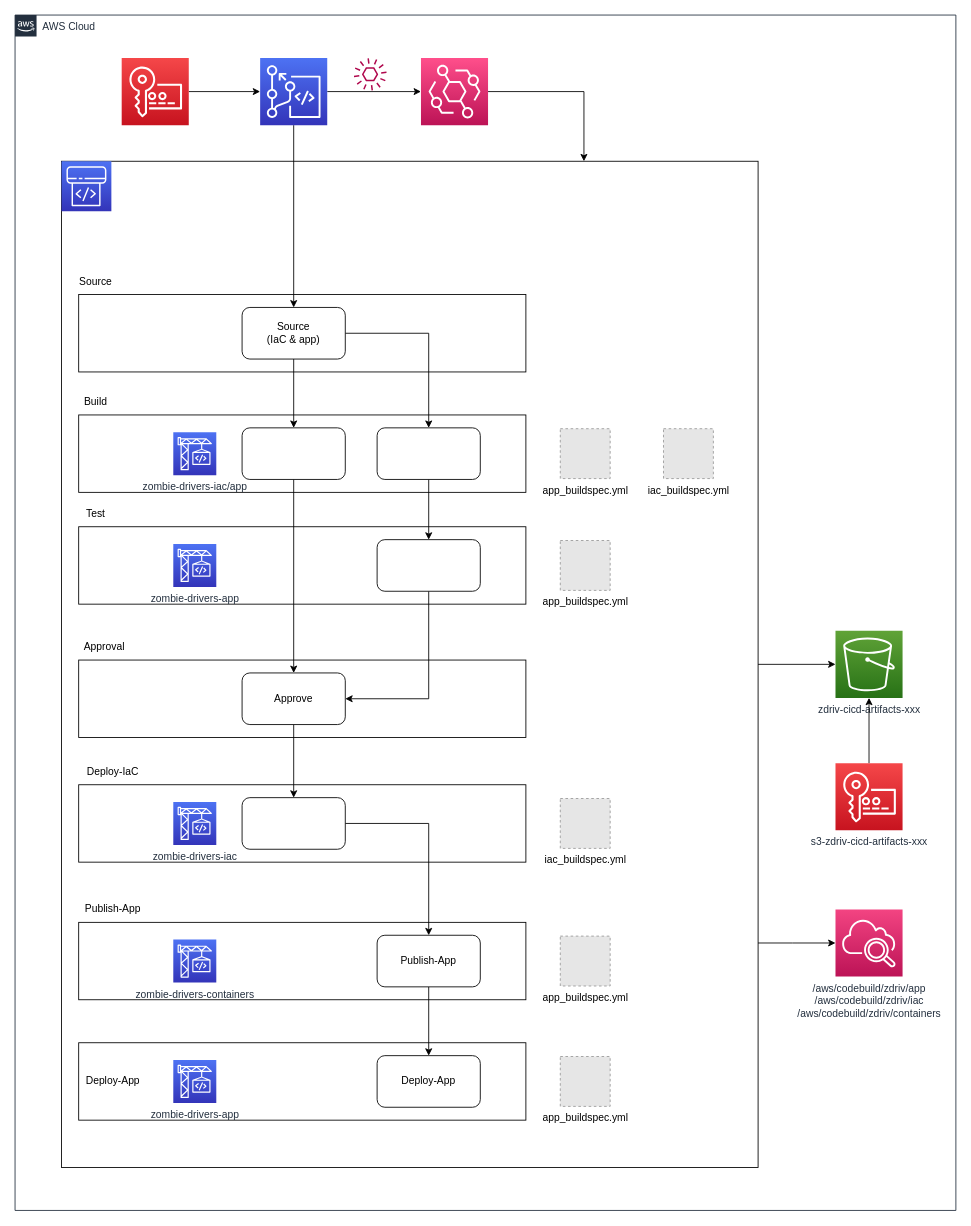
Some shapes in this 971 by 1226 pixel diagram are drawn without their labels. Grey dashed boxes stand in for pictures. The shapes that lost their labels are listed below. From the top down, each one's centre as x and y in pixels, then its label:
[155,91]: aws/codecommit
[293,91]: zombie-drivers-node-aws
[369,74]: commit
[454,91]: zdriv-repo-dev-xxx zdriv-repo-prod-xxx
[86,185]: zombie-drivers-dev zombie-drivers-prod
[293,453]: Build-Plan_IaC
[428,453]: Build-App
[428,565]: Test-App
[293,823]: Deploy-Apply_IaC
